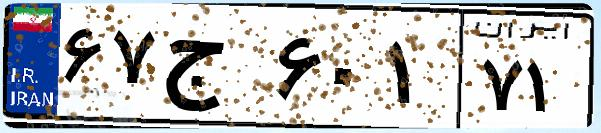0: (330, 28, 385, 110)
1: (385, 28, 445, 110), (525, 38, 570, 115)
6: (270, 28, 330, 110), (57, 26, 110, 100)
7: (475, 38, 525, 113), (110, 28, 158, 98)
ج: (158, 20, 270, 120)
